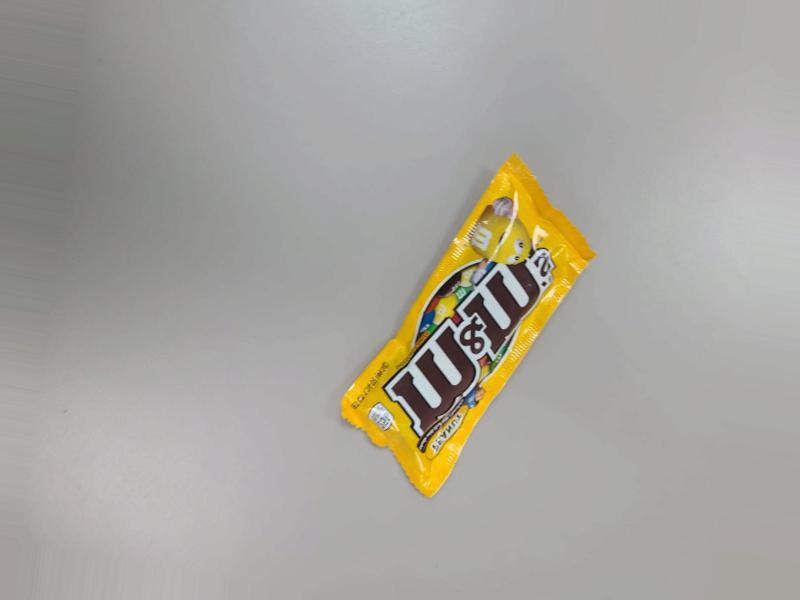m&m: (368, 128, 602, 523)
